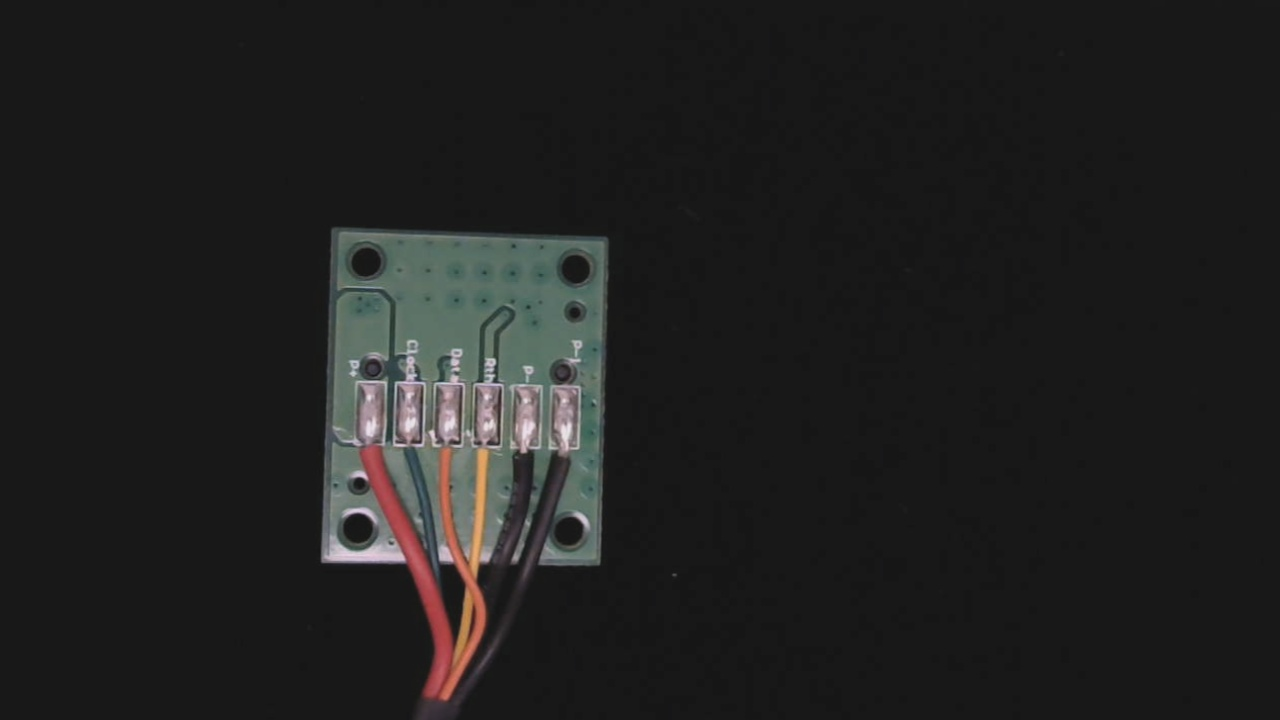Black: (523, 423, 560, 498)
Black1: (563, 426, 599, 495)
Green: (403, 415, 440, 487)
Orange: (442, 423, 477, 498)
Red: (363, 418, 400, 490)
Yellow: (483, 425, 520, 502)
